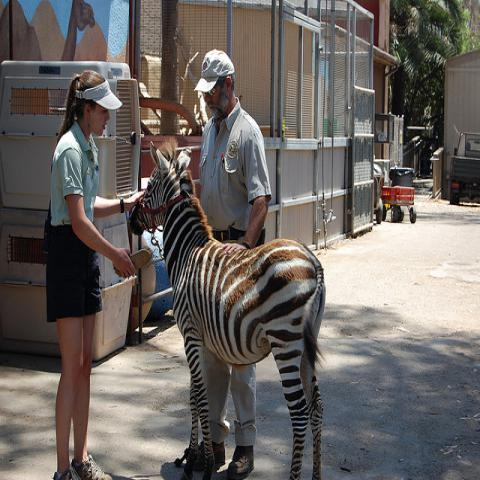truck: (449, 133, 479, 205)
